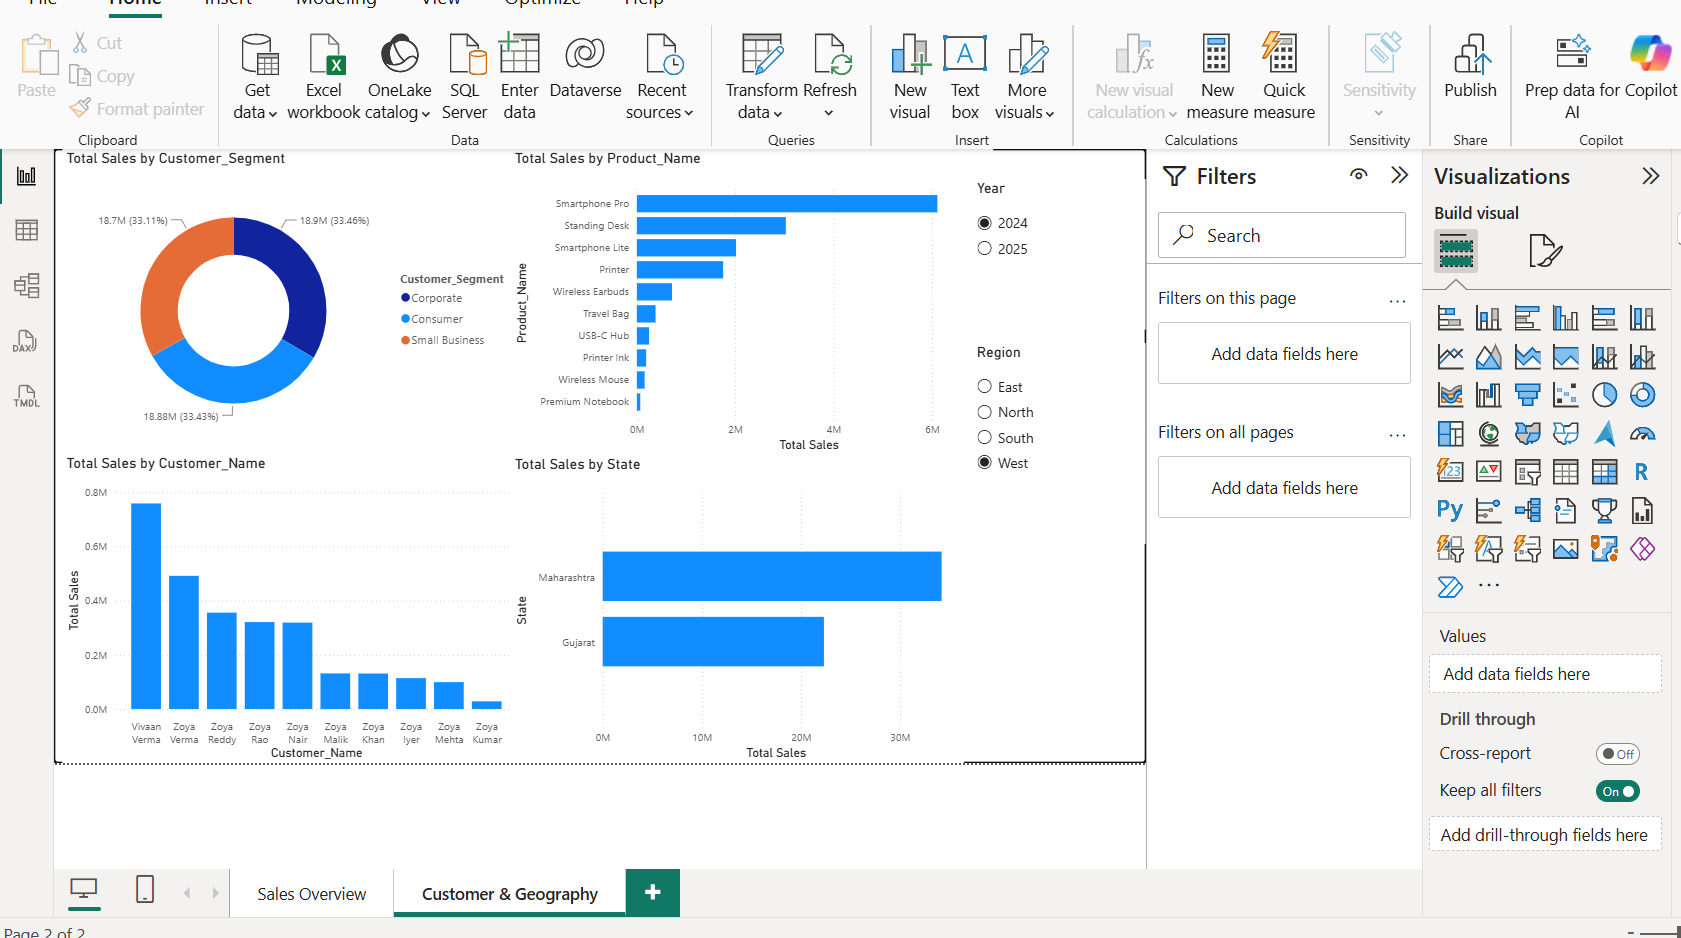

The page's visual inventory and layout, read from the dashboard file:
{"tool":"powerbi","page":{"name":"Customer & Geography","canvas":[1280,720],"ordinal":1},"visuals":[{"type":"donutChart","fields":{"Category":["sales_analysis.Customer_Segment"],"Y":["sales_analysis.Total Sales"]},"box":[9.7,0,538.3,348.1],"z":0},{"type":"clusteredBarChart","fields":{"Category":["sales_analysis.Product_Name"],"Y":["sales_analysis.Total Sales"]},"box":[535.1,0,565.7,359.4],"z":1},{"type":"clusteredColumnChart","fields":{"Category":["sales_analysis.Customer_Name"],"Y":["sales_analysis.Total Sales"]},"box":[9.7,357.8,538.3,362.6],"z":2},{"type":"clusteredBarChart","fields":{"Category":["sales_analysis.State"],"Y":["sales_analysis.Total Sales"]},"box":[535.1,359.4,531.9,361],"z":3},{"type":"listSlicer","fields":{"Values":["sales_analysis.Year_Month.Variation.Date Hierarchy.Year"]},"box":[1076.6,35.5,203.1,175.7],"z":4},{"type":"listSlicer","fields":{"Values":["sales_analysis.Region"]},"box":[1076.6,227.3,203.1,235.3],"z":5}]}

Visuals, with their boxes on the page's 1280x720 design canvas (x1, y1, x2, y2). These are canvas units, not pixel positions in the 1681x938 screenshot, which may show the page scaled, cropped or inside an application window:
donutChart - sales_analysis.Customer_Segment x sales_analysis.Total Sales: {"x1": 10, "y1": 0, "x2": 548, "y2": 348}
clusteredBarChart - sales_analysis.Product_Name x sales_analysis.Total Sales: {"x1": 535, "y1": 0, "x2": 1101, "y2": 359}
clusteredColumnChart - sales_analysis.Customer_Name x sales_analysis.Total Sales: {"x1": 10, "y1": 358, "x2": 548, "y2": 720}
clusteredBarChart - sales_analysis.State x sales_analysis.Total Sales: {"x1": 535, "y1": 359, "x2": 1067, "y2": 720}
listSlicer - sales_analysis.Year_Month.Variation.Date Hierarchy.Year: {"x1": 1077, "y1": 36, "x2": 1280, "y2": 211}
listSlicer - sales_analysis.Region: {"x1": 1077, "y1": 227, "x2": 1280, "y2": 463}
